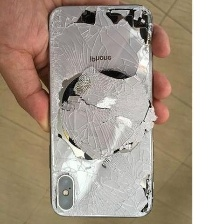phone: (43, 0, 155, 220)
